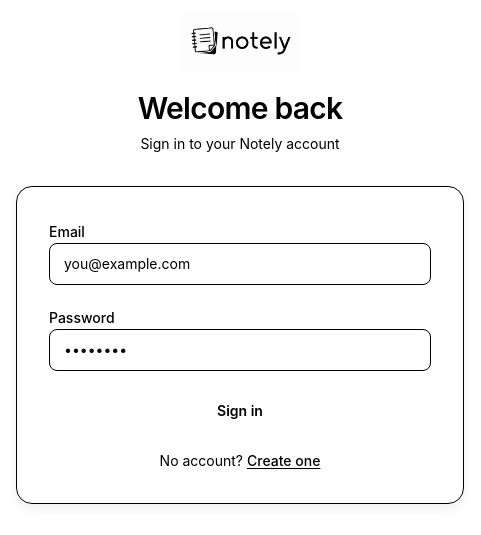
Test case: LoginPage › shows "Password is required" error when only email is entered
Type "test@example.com" into the field with placeholder "you@example.com" at (240, 264), box [49,243,431,285]
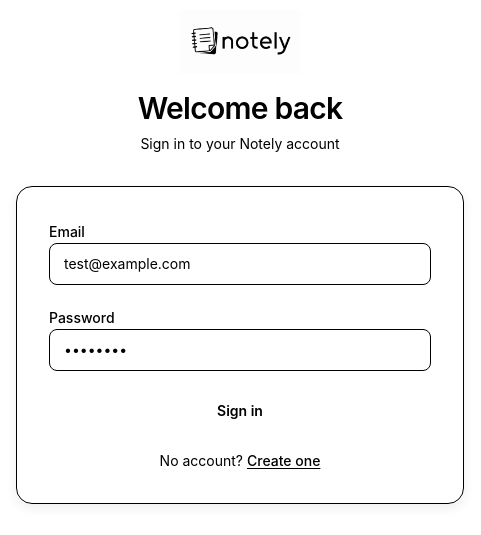
Click the button "Sign in" at (240, 411), box [49,391,431,431]
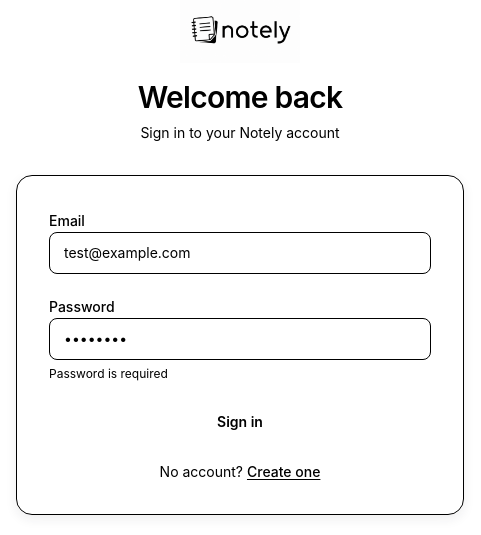
Check: the text "Password is required" is shown, box [49,366,168,381]
